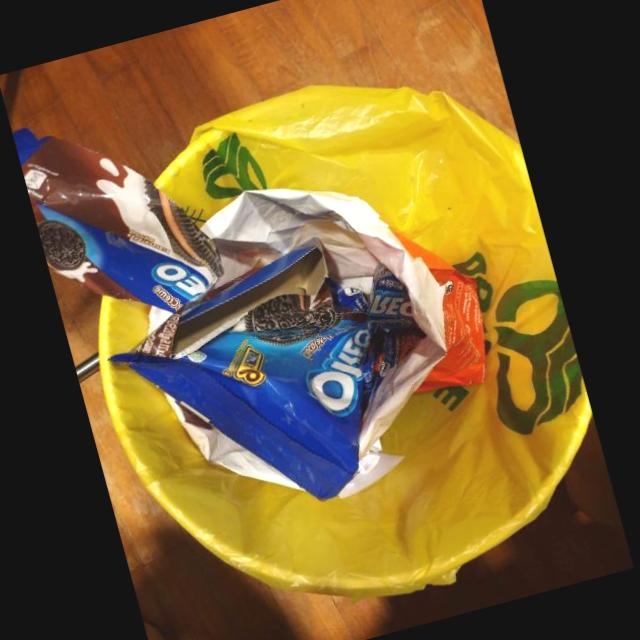bao_bi_thuc_pham: (12, 127, 423, 502), (325, 262, 420, 334)
carton: (170, 243, 328, 359)
